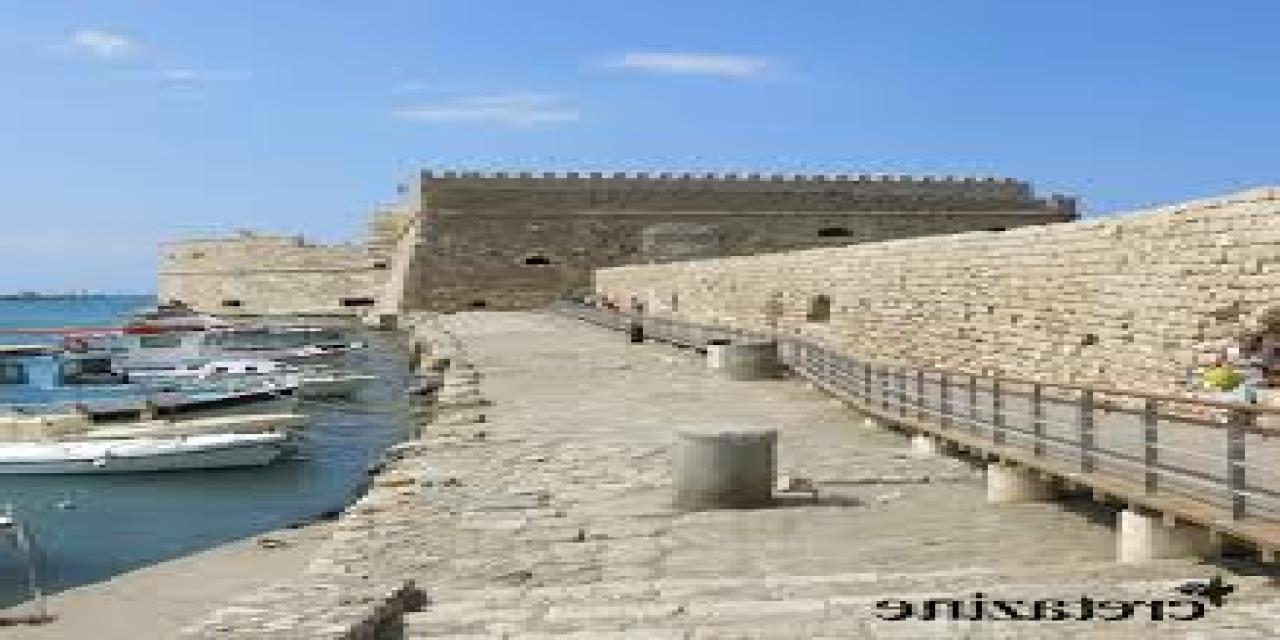Kules: (155, 145, 1086, 326)
